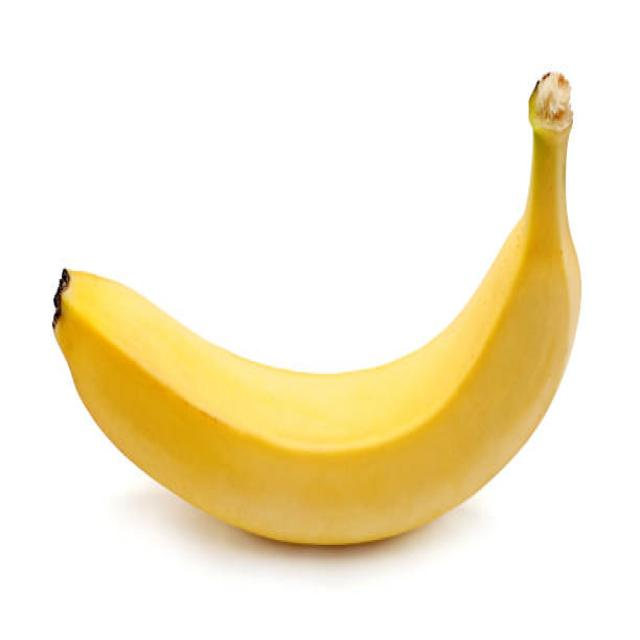Ripe: (50, 66, 584, 552)
